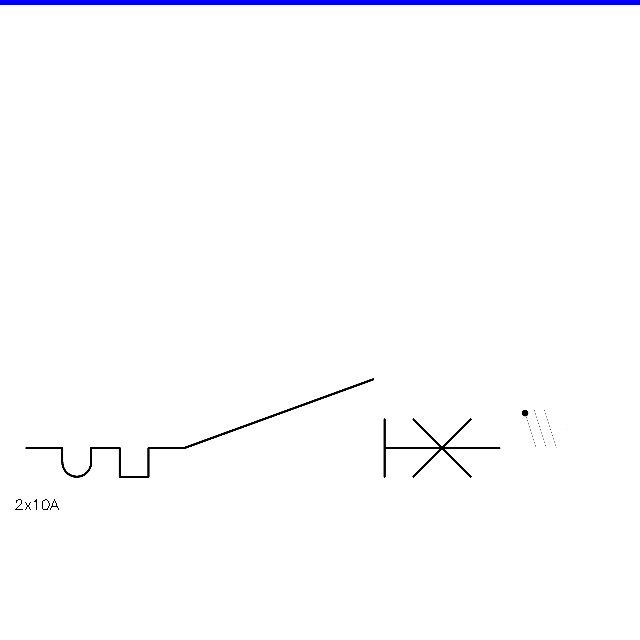interruptor_termomagnetico: (14, 367, 511, 489)
